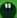black: (0, 0, 17, 18)
